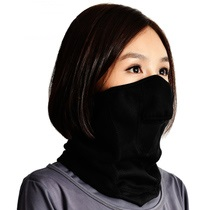face_mask: (106, 32, 173, 142)
